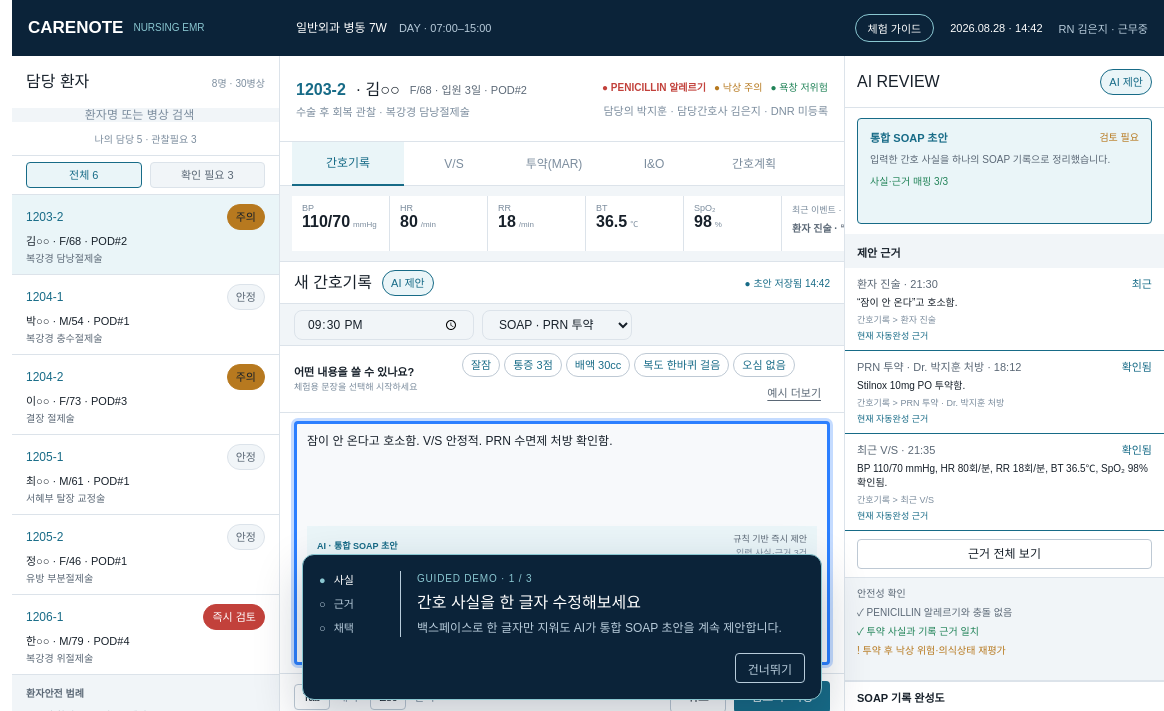
Scenario: ChartingWorkspace › searches the patient rail by bed number
In the search field named "환자 검색": [146, 115] box [12,108,279,122], type "1205-2"
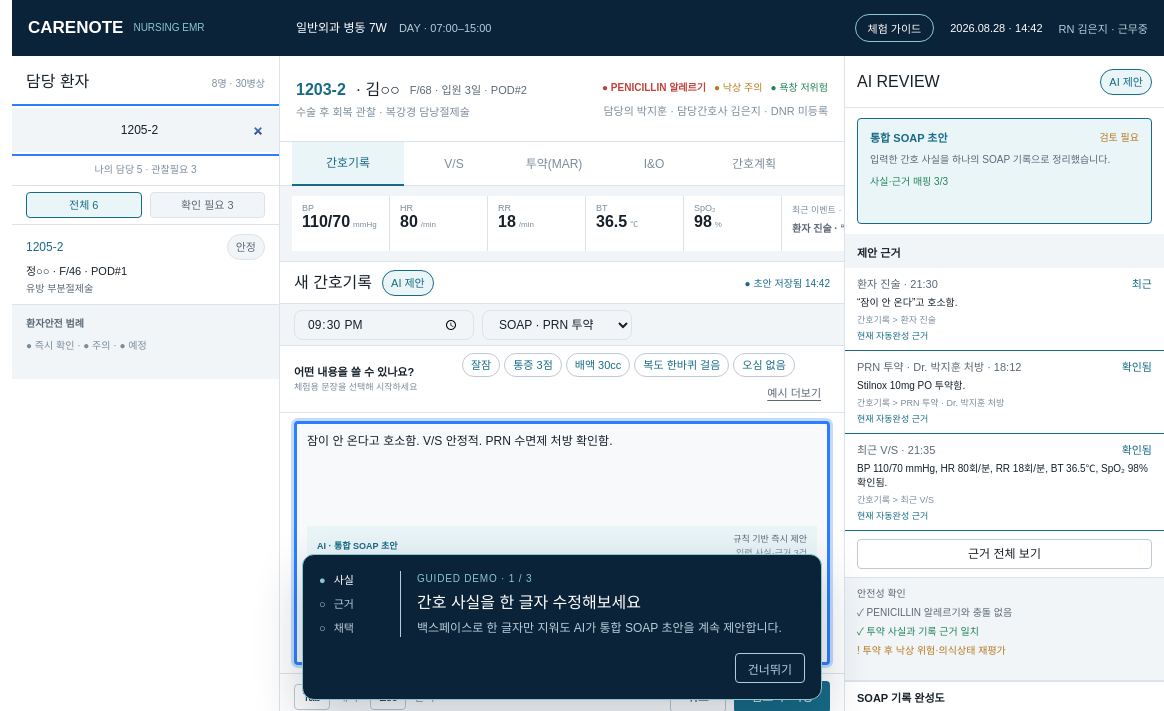
Check: the number of buttons "1205-2 안정 정○○ · F/46 · POD#1 유방 부분절제술" is 1, box [12,225,279,305]
